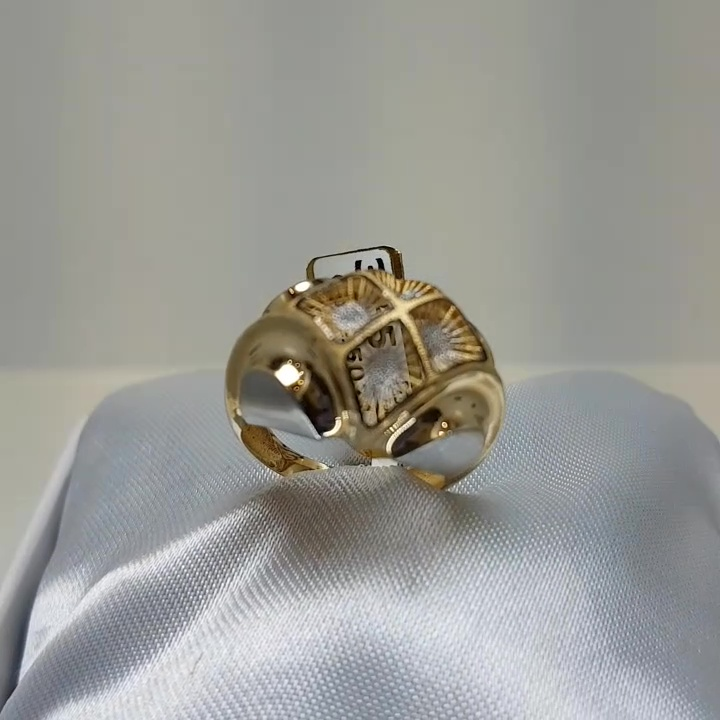Ring 2: (216, 237, 518, 516)
